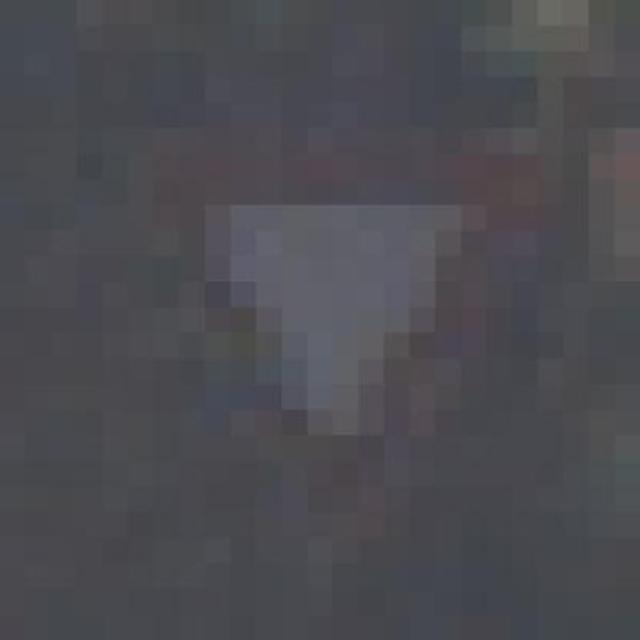Give Way: (100, 97, 562, 532)
